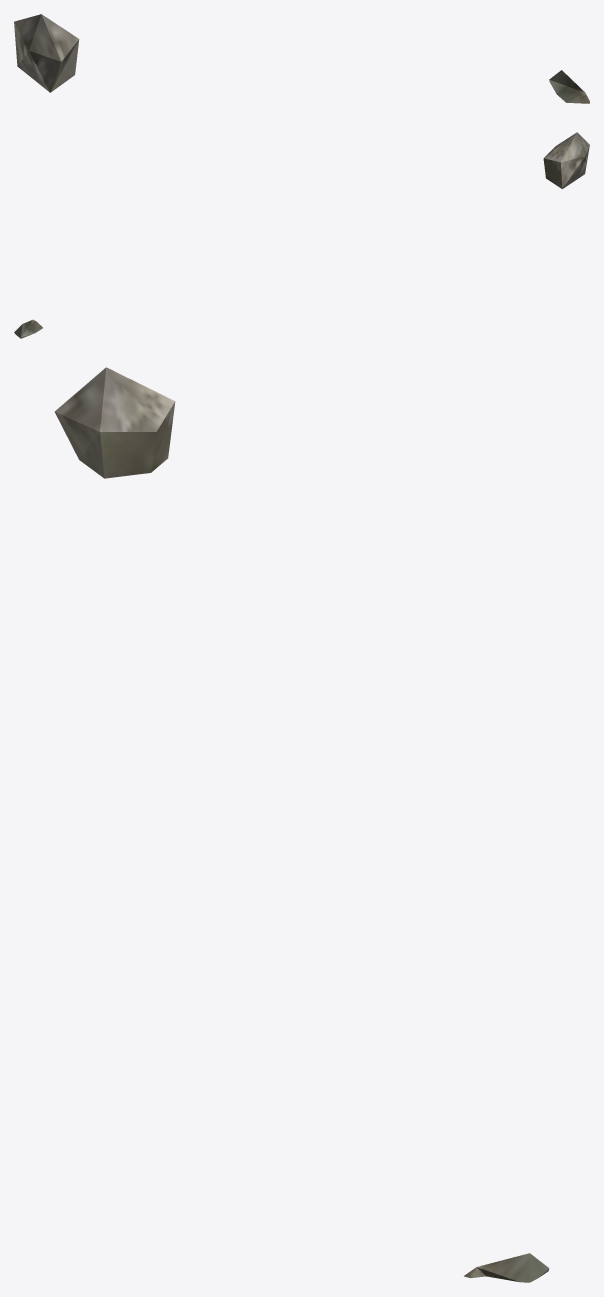
The picture shows the model from 3 angles, top to bottom: view 1: azimuth 30°, elevation 25°; view 2: azimuth 150°, elevation 25°; view 3: azimuth 270°, elevation 25°; orthographic projection. The views are drawn at different scales.
Size of the model in its own units: 1.77 by 0.8502 by 0.813.
1 material, 1 textured.
